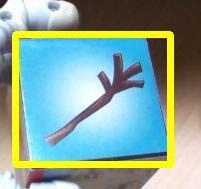Blue4: (15, 34, 170, 164)
